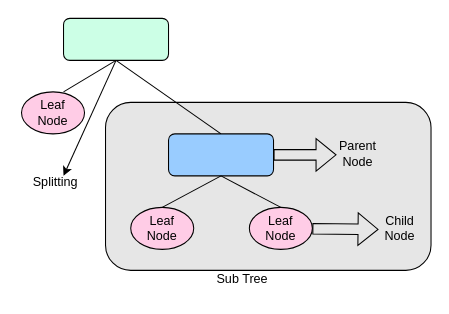
Image size: 449x314. Some labels were removed from this diagram. Each missing label, with the centre of its shape:
Decision Tree: pixel 220 154
Root Node: pixel 115 38
